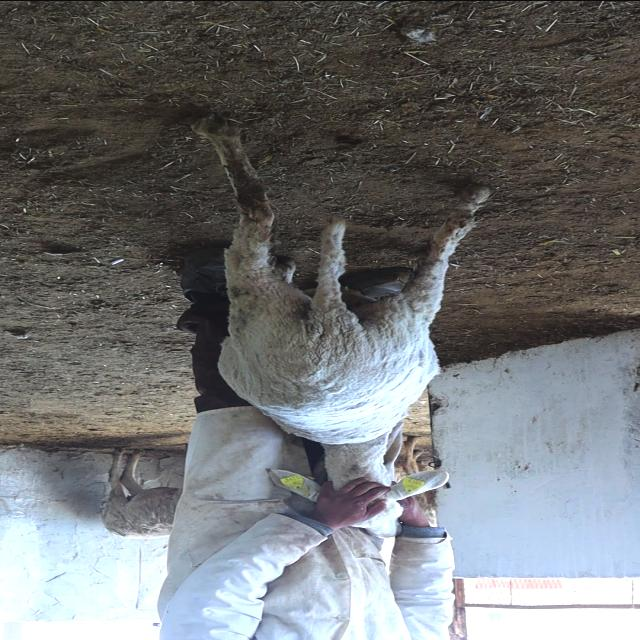Score_4: (192, 114, 491, 488)
